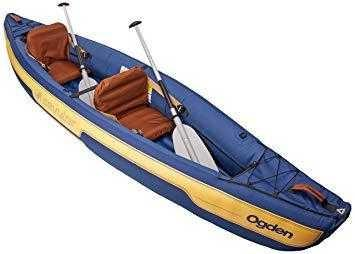kayak: (1, 10, 349, 250)
